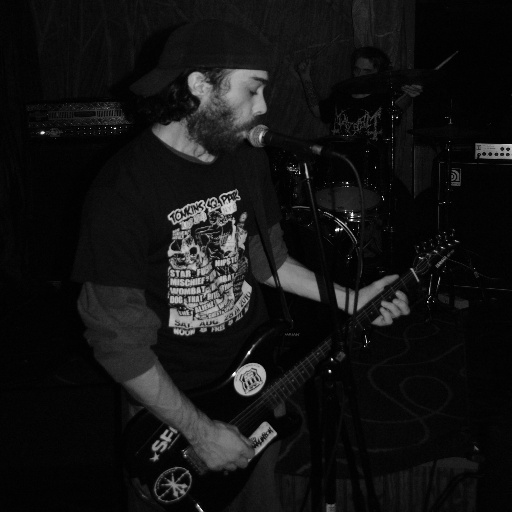hand: (176, 414, 252, 487), (343, 273, 411, 329), (401, 83, 424, 99), (298, 57, 314, 78)
